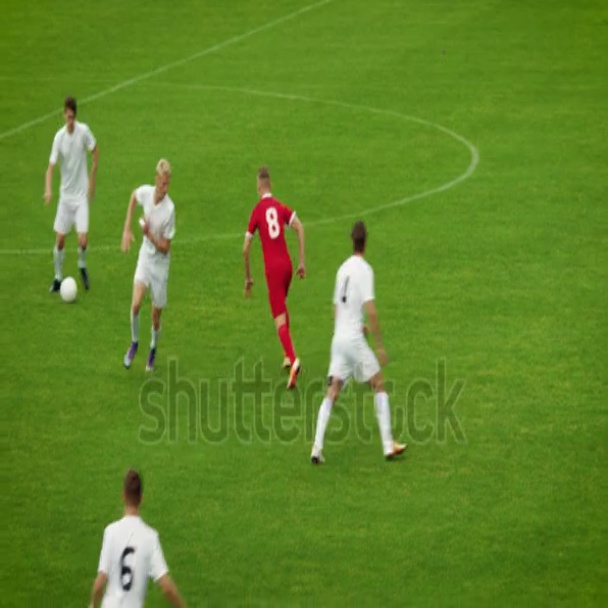ball: (61, 275, 79, 305)
